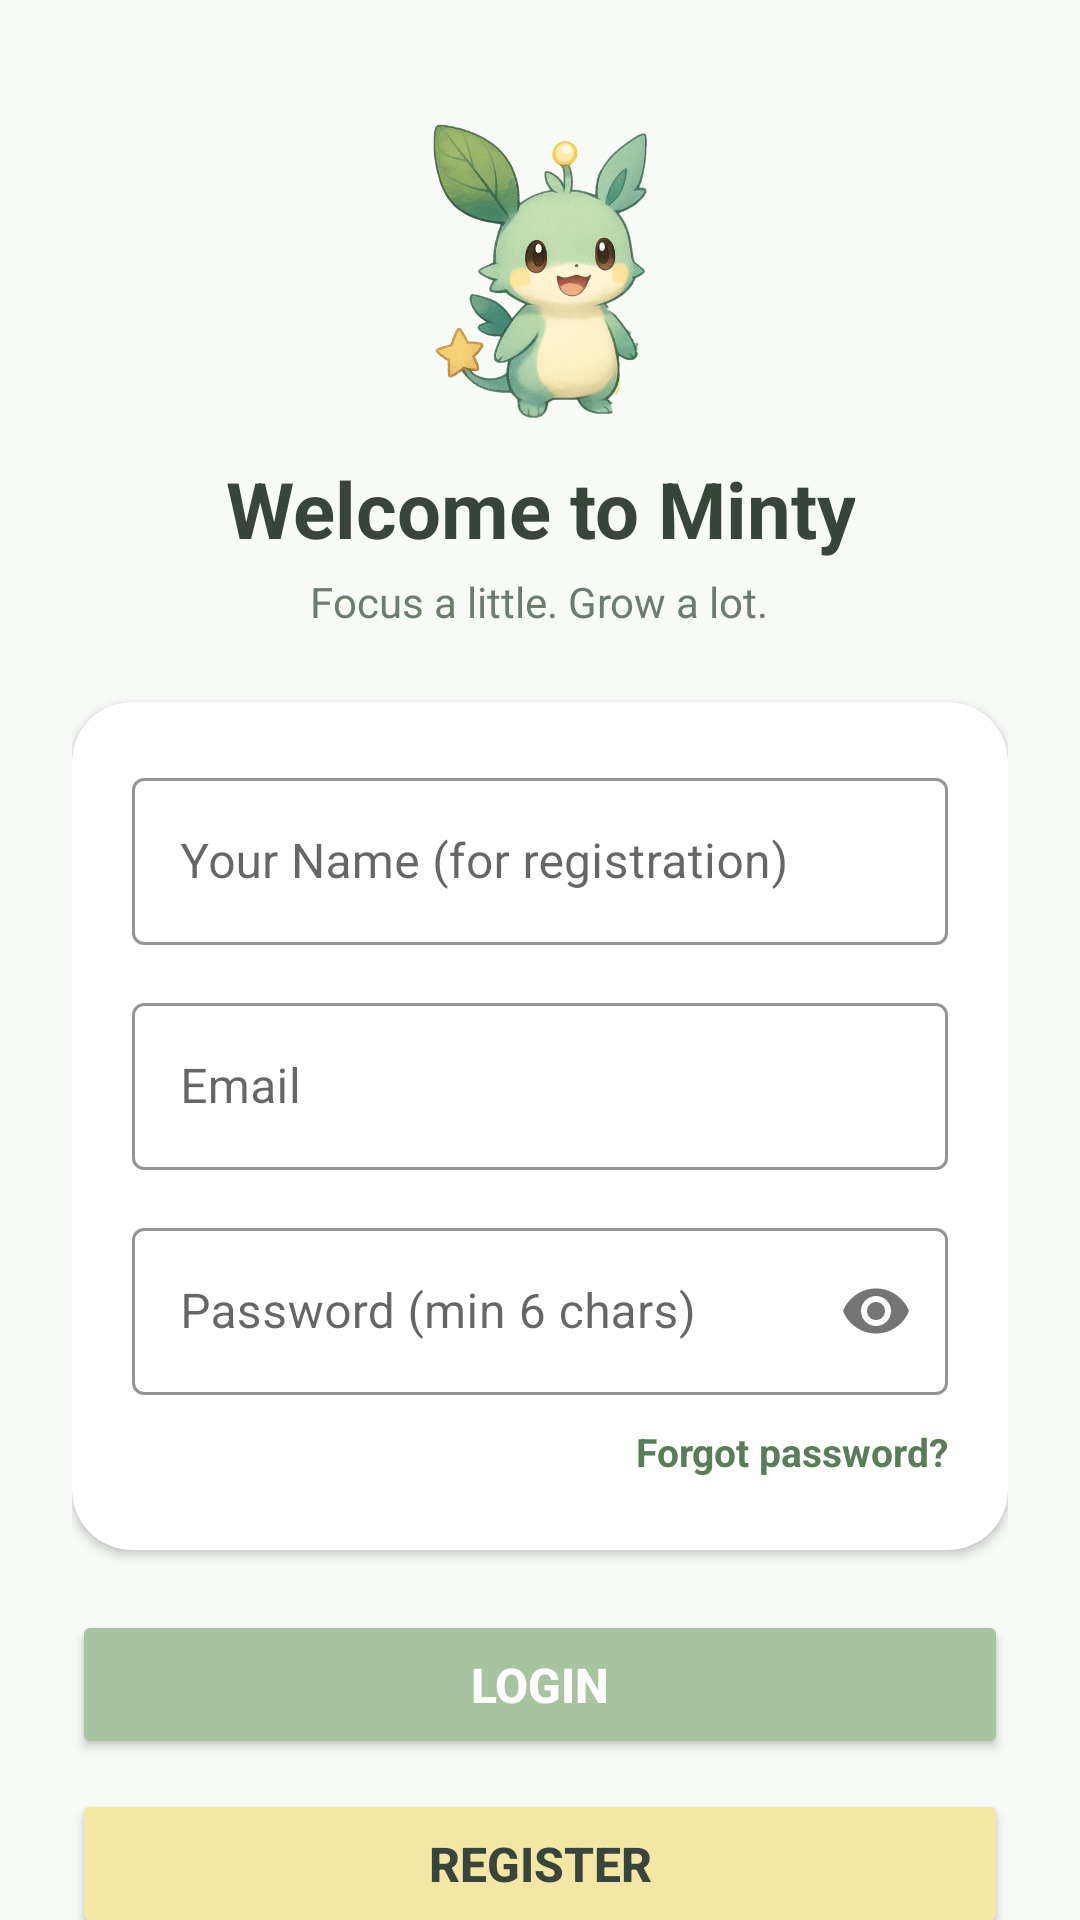

Locate icon controls on the screen. Image size 1080x1920, boxes as (x1, y1, x2, y2).
Minty the mascot: (433, 124, 647, 418)
